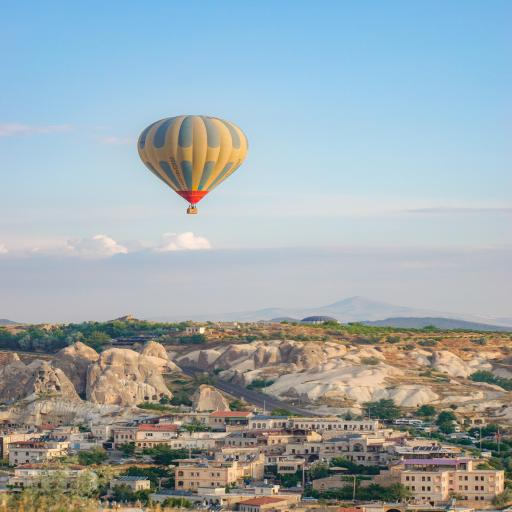hot air ballon: (136, 115, 251, 213)
